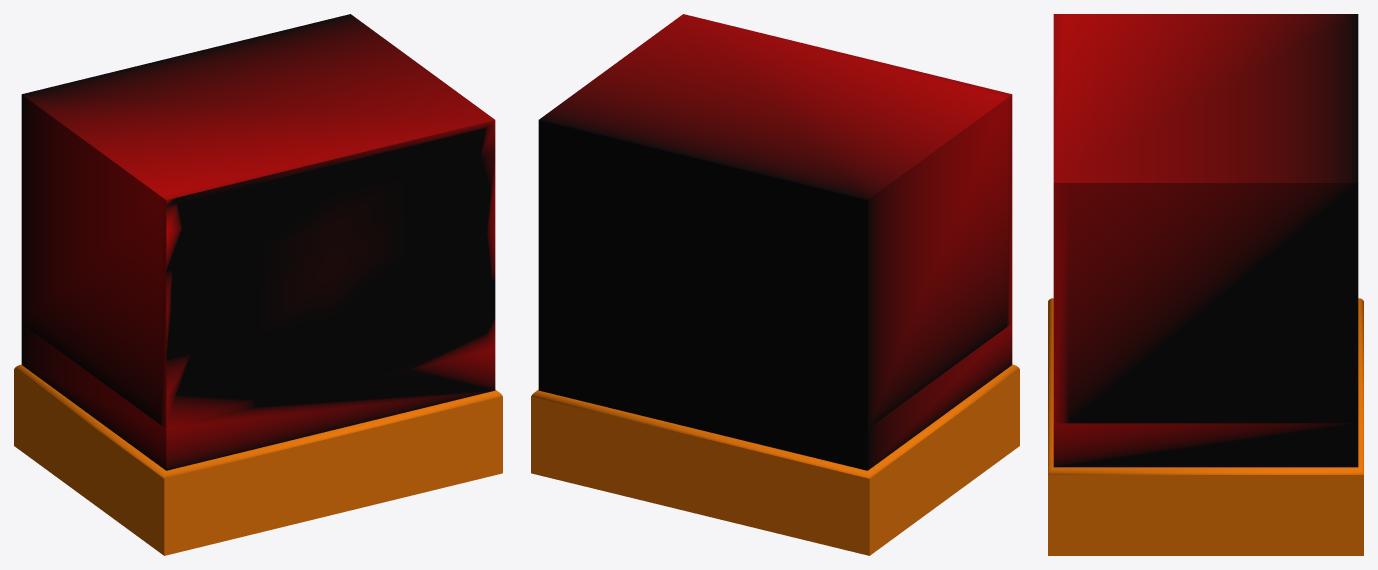
The model's file is house1_collisionSetup.fbx.
The picture shows the model from 3 angles, left to right: view 1: azimuth 30°, elevation 25°; view 2: azimuth 150°, elevation 25°; view 3: azimuth 270°, elevation 25°; orthographic projection. The views are drawn at different scales.
Parts seen in each view (by area): view 1: collisionCube.015, collisionConvex.207; view 2: collisionCube.015, collisionConvex.207; view 3: collisionCube.015, collisionConvex.207.
Part boxes in pixels (left/top/right/bottom): collisionCube.015: left=21, top=14, right=495, bottom=470; collisionConvex.207: left=14, top=364, right=502, bottom=555; collisionCube.015: left=538, top=14, right=1012, bottom=470; collisionConvex.207: left=531, top=364, right=1019, bottom=555; collisionCube.015: left=1053, top=14, right=1358, bottom=467; collisionConvex.207: left=1048, top=298, right=1363, bottom=555.
Bounding box in the file's own units: 1080 × 1075 × 830.
